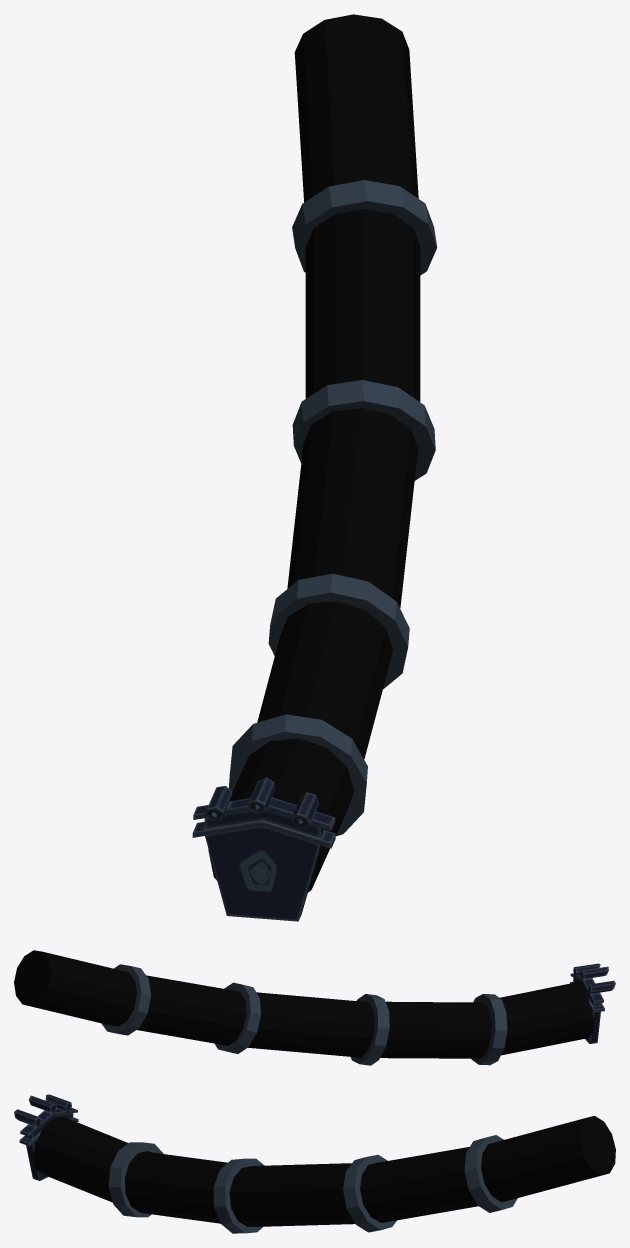
File: Roof_Object3_JP_Tiles.fbx
The picture shows the model from 3 angles, top to bottom: view 1: azimuth 30°, elevation 25°; view 2: azimuth 150°, elevation 25°; view 3: azimuth 270°, elevation 25°; orthographic projection. The views are drawn at different scales.
Parts seen in each view (by area): view 1: Roof_Object3_JP_Tiles_LOD0; view 2: Roof_Object3_JP_Tiles_LOD0; view 3: Roof_Object3_JP_Tiles_LOD0.
Boxes of the visible parts, x1,y1,x2,y2 form: Roof_Object3_JP_Tiles_LOD0: (192,14,437,921); Roof_Object3_JP_Tiles_LOD0: (14,950,615,1065); Roof_Object3_JP_Tiles_LOD0: (14,1094,615,1233).
Size of what is drawn, in the model's own units: 630 by 353 by 873.
